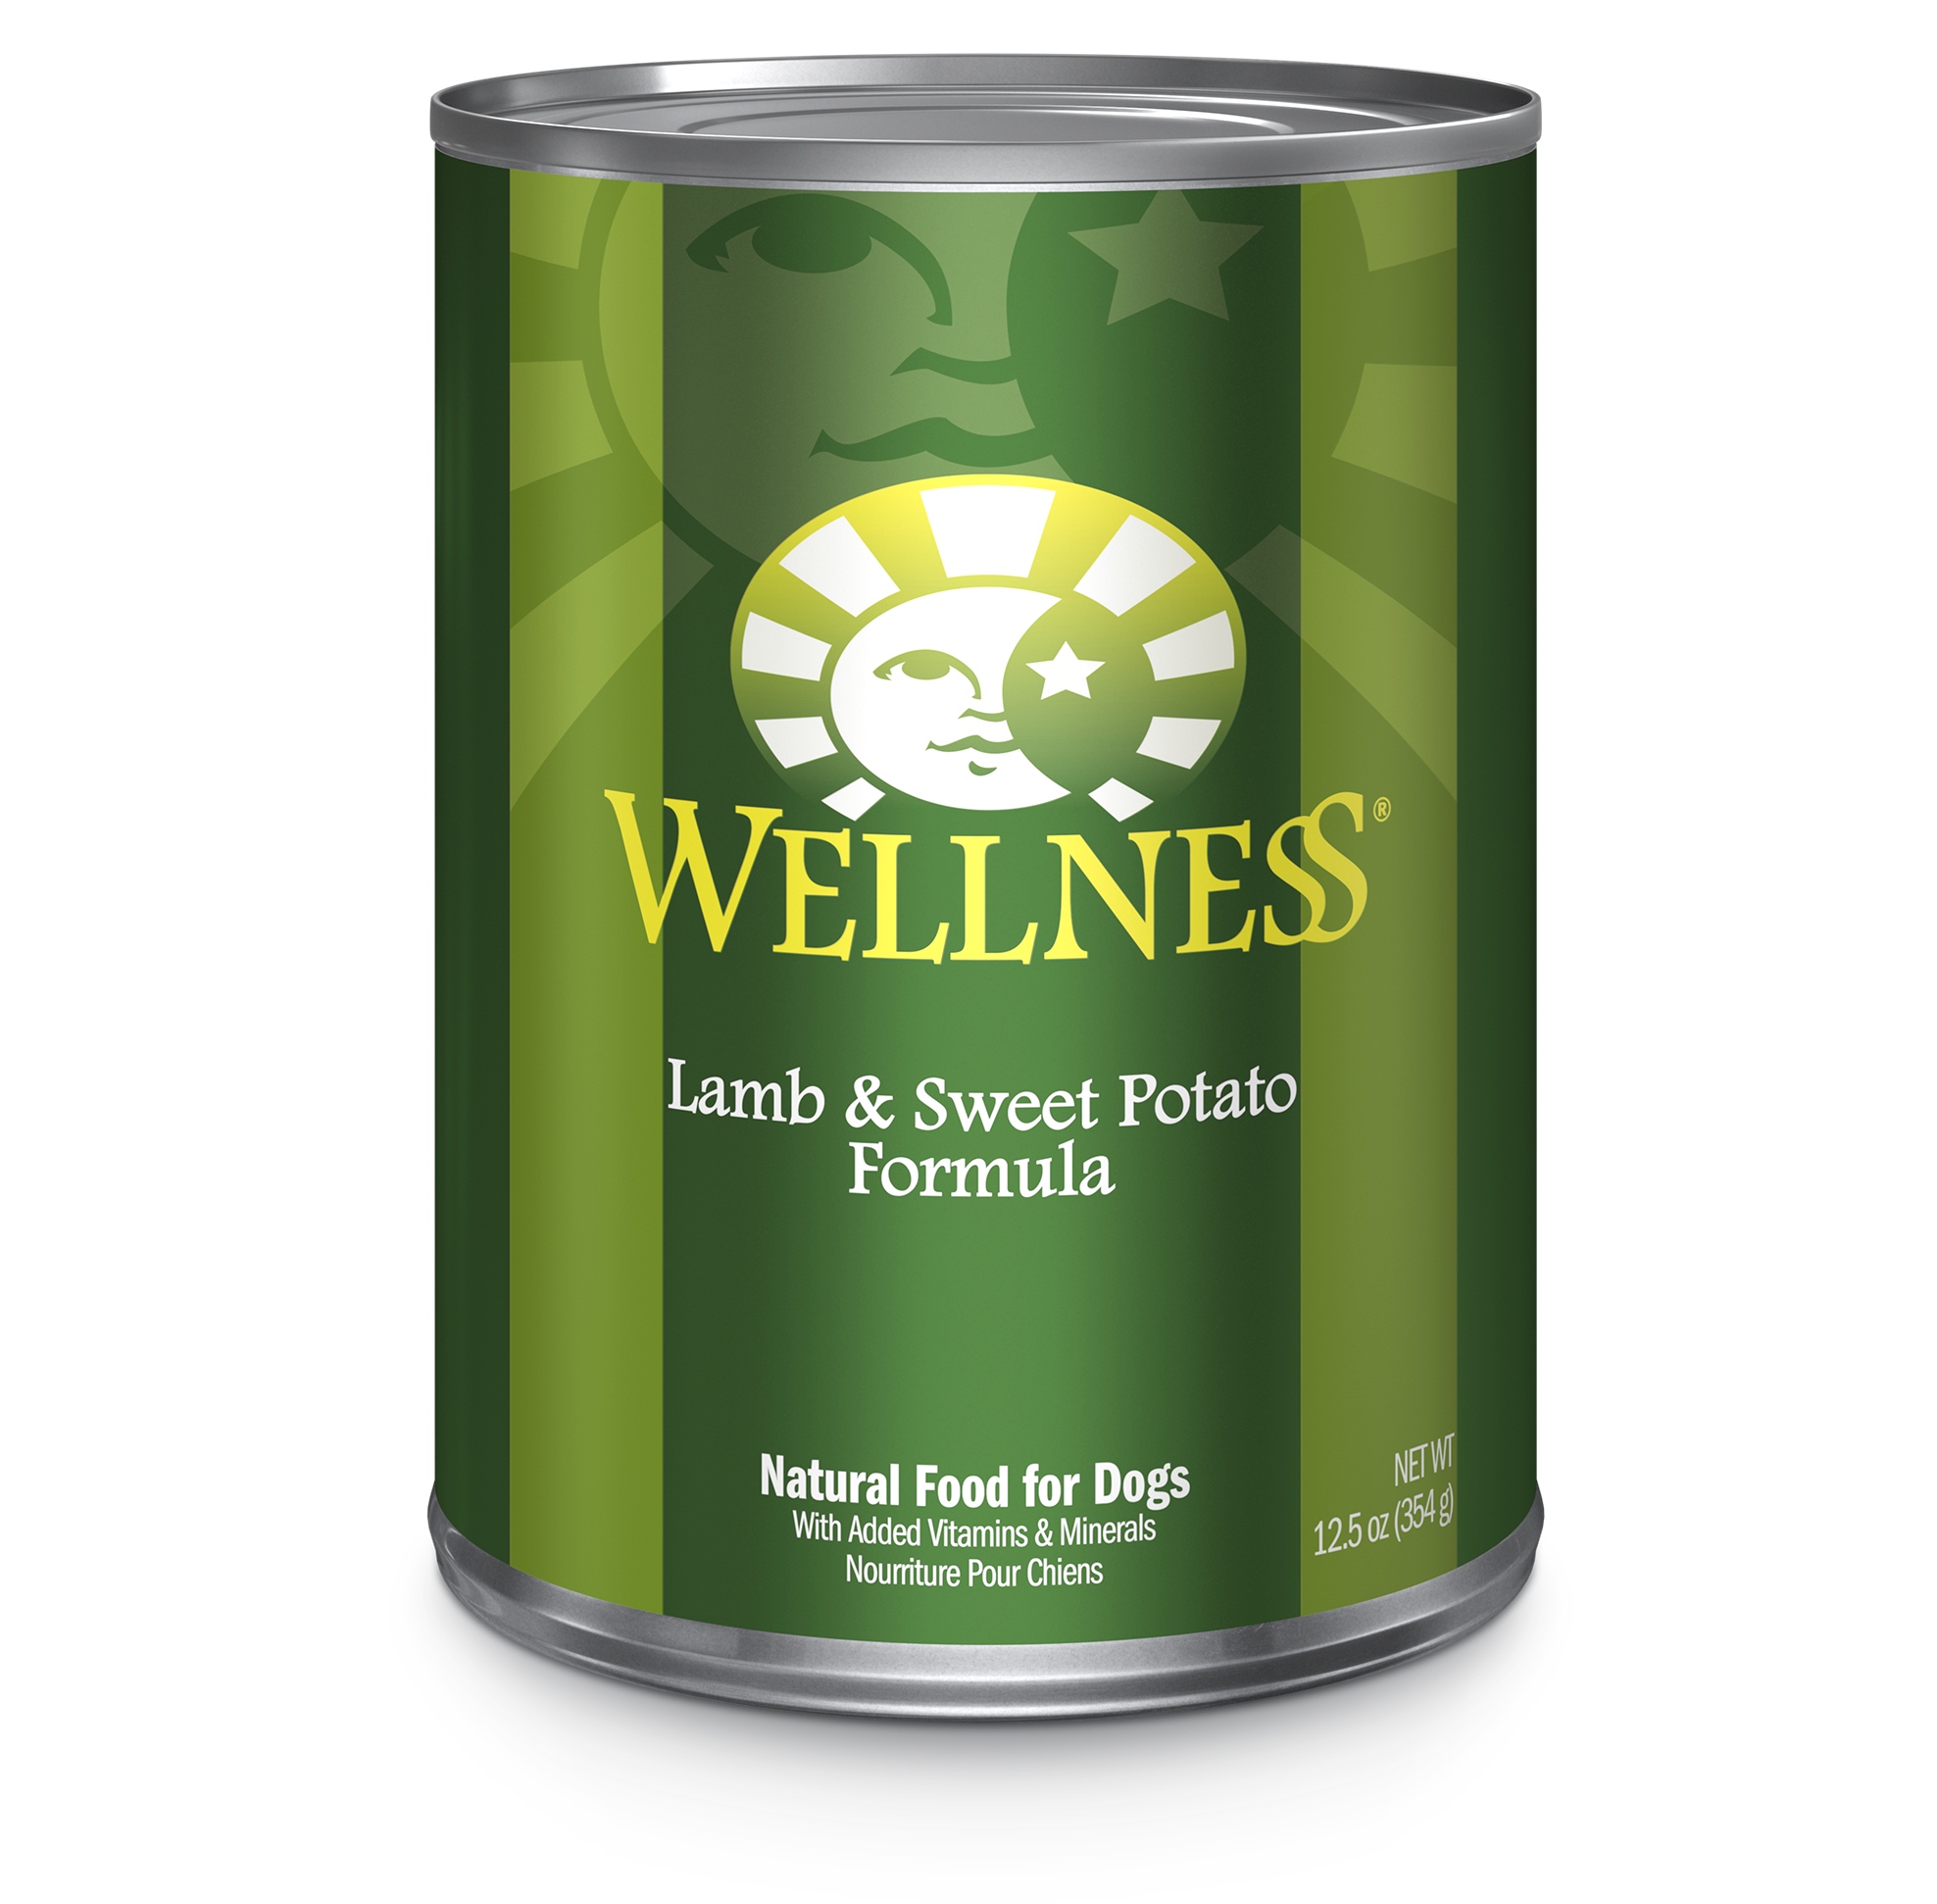Rec_Metal: (307, 2, 1695, 1751)
